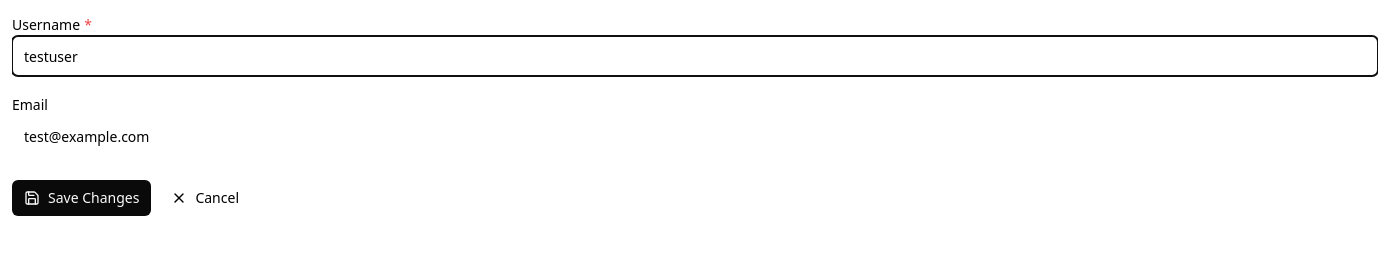
ProfileEditForm › Form Validation › should clear error when user corrects invalid input - Requirement 5.5
# Enter invalid email
Replace the text in the field labelled "Email" with "invalid-email": (695,136) [12,116,1378,156]
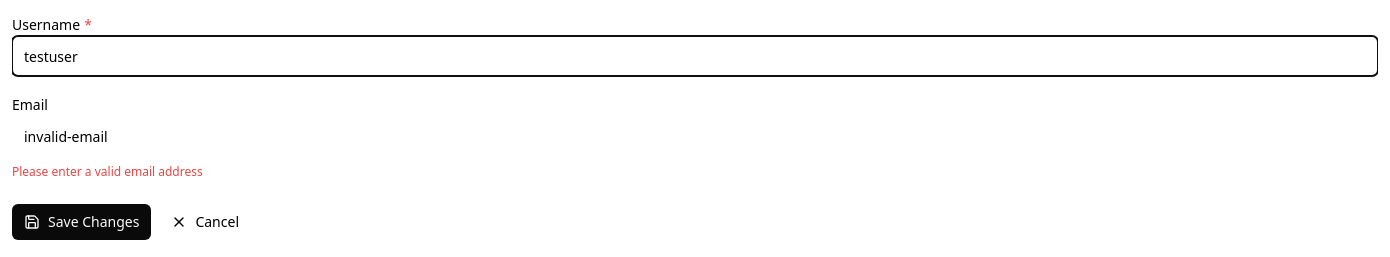
Expected: the text "Please enter a valid email address" is shown, [12,163,203,180]
# Correct the email
Replace the text in the field labelled "Email" with "valid@example.com": (695,136) [12,116,1378,156]
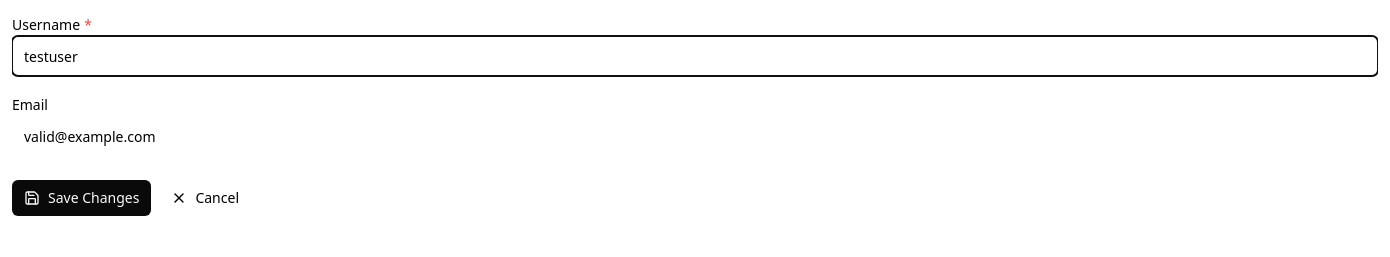
Expected: the text "Please enter a valid email address" is gone
